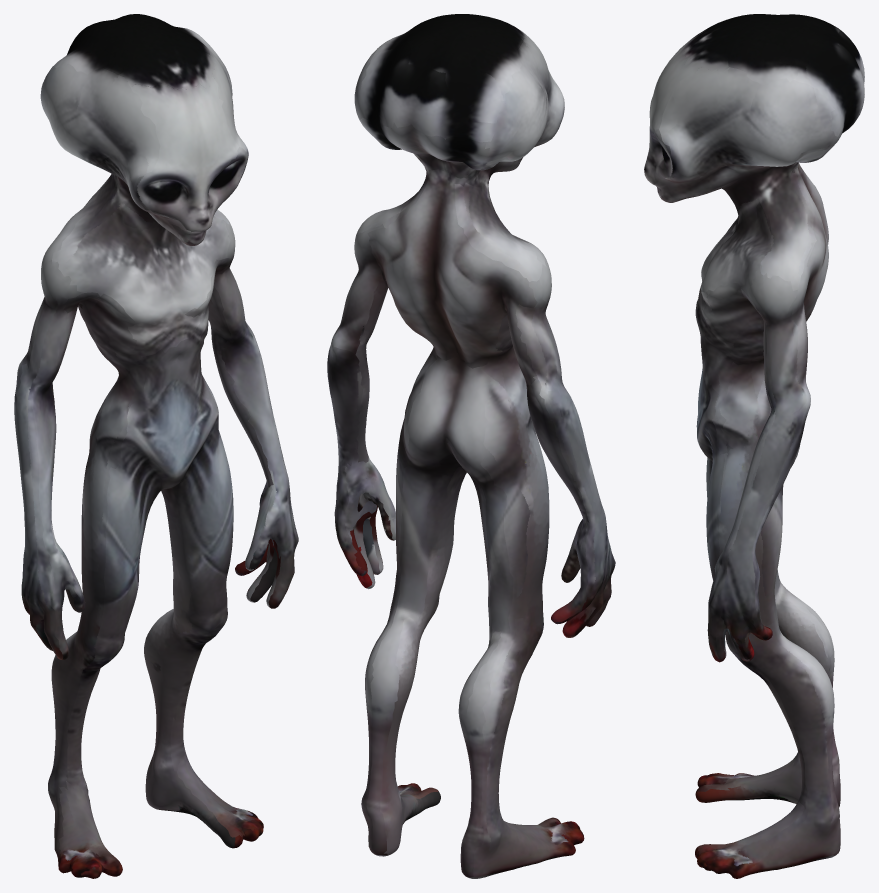
The model's file is talehn.glb.
The picture shows the model from 3 angles, left to right: view 1: azimuth 30°, elevation 25°; view 2: azimuth 150°, elevation 25°; view 3: azimuth 270°, elevation 25°; orthographic projection.
Visible parts, largest first — view 1: tmptrvhvyt_.ply; view 2: tmptrvhvyt_.ply; view 3: tmptrvhvyt_.ply.
Boxes of the visible parts, box(x1,y1,x2,y2) form: tmptrvhvyt_.ply: box(14, 14, 298, 878); tmptrvhvyt_.ply: box(327, 14, 615, 878); tmptrvhvyt_.ply: box(644, 14, 864, 878).
Bounding box in the file's own units: 0.6803 × 1.99 × 0.4927.
Materials: 1 (1 with a texture image).
